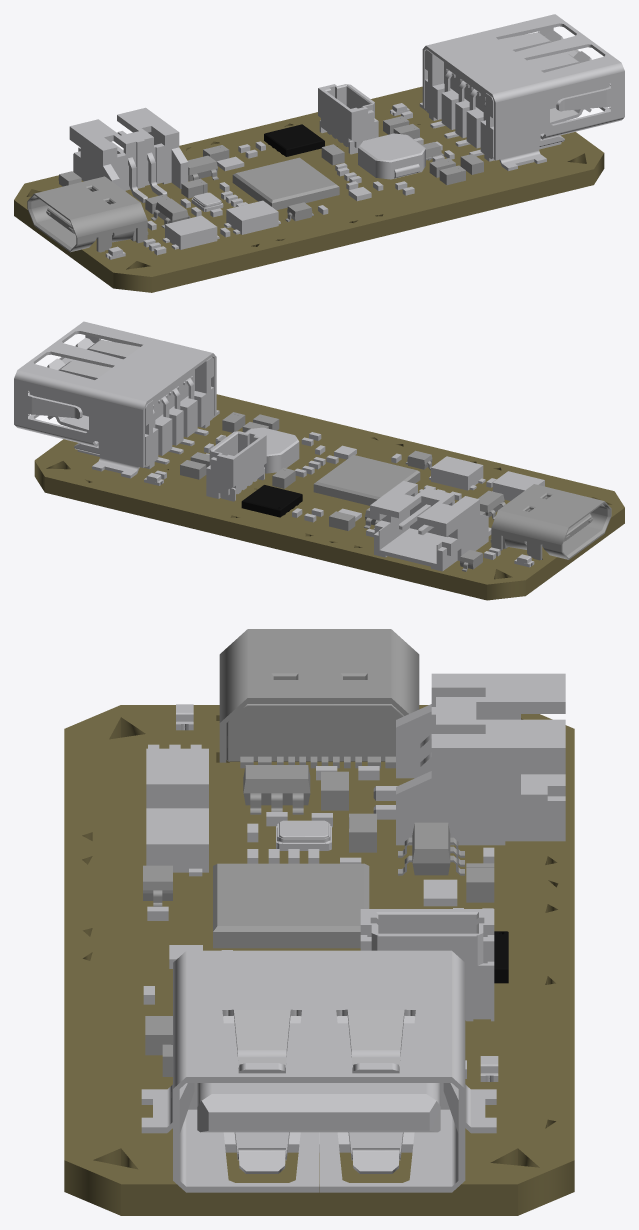
Rendered from ada-5723.glb.
3 renders of one model, top to bottom at view 1: azimuth 30°, elevation 25°; view 2: azimuth 150°, elevation 25°; view 3: azimuth 270°, elevation 25°, orthographic. The views are drawn at different scales.
Parts seen in each view (by area): view 1: 0.5833333333333334_0.5833333333333334_0.5833333333333334_0.8, 0.16666666666666666_0.16666666666666666_0.08333333333333333_, 0.3333333333333333_0.3333333333333333_0.3333333333333333_0, 0_0_0_0; view 2: 0.5833333333333334_0.5833333333333334_0.5833333333333334_0.8, 0.16666666666666666_0.16666666666666666_0.08333333333333333_, 0.3333333333333333_0.3333333333333333_0.3333333333333333_0, 0_0_0_0; view 3: 0.5833333333333334_0.5833333333333334_0.5833333333333334_0.8, 0.16666666666666666_0.16666666666666666_0.08333333333333333_, 0.3333333333333333_0.3333333333333333_0.3333333333333333_0, 0_0_0_0.
Part boxes in pixels (x1,y1,x2,y2): 0.5833333333333334_0.5833333333333334_0.5833333333333334_0.8: [48, 14, 624, 259]; 0.16666666666666666_0.16666666666666666_0.08333333333333333_: [14, 86, 604, 292]; 0.3333333333333333_0.3333333333333333_0.3333333333333333_0: [27, 116, 483, 252]; 0_0_0_0: [264, 124, 324, 156]; 0.5833333333333334_0.5833333333333334_0.5833333333333334_0.8: [14, 321, 590, 571]; 0.16666666666666666_0.16666666666666666_0.08333333333333333_: [34, 394, 624, 600]; 0.3333333333333333_0.3333333333333333_0.3333333333333333_0: [180, 412, 611, 571]; 0_0_0_0: [241, 485, 302, 517]; 0.5833333333333334_0.5833333333333334_0.5833333333333334_0.8: [141, 673, 565, 1192]; 0.16666666666666666_0.16666666666666666_0.08333333333333333_: [64, 705, 574, 1215]; 0.3333333333333333_0.3333333333333333_0.3333333333333333_0: [143, 629, 494, 1076]; 0_0_0_0: [494, 931, 508, 983].
Bounding box in the file's own units: 5.55 × 0.8489 × 2.29.
